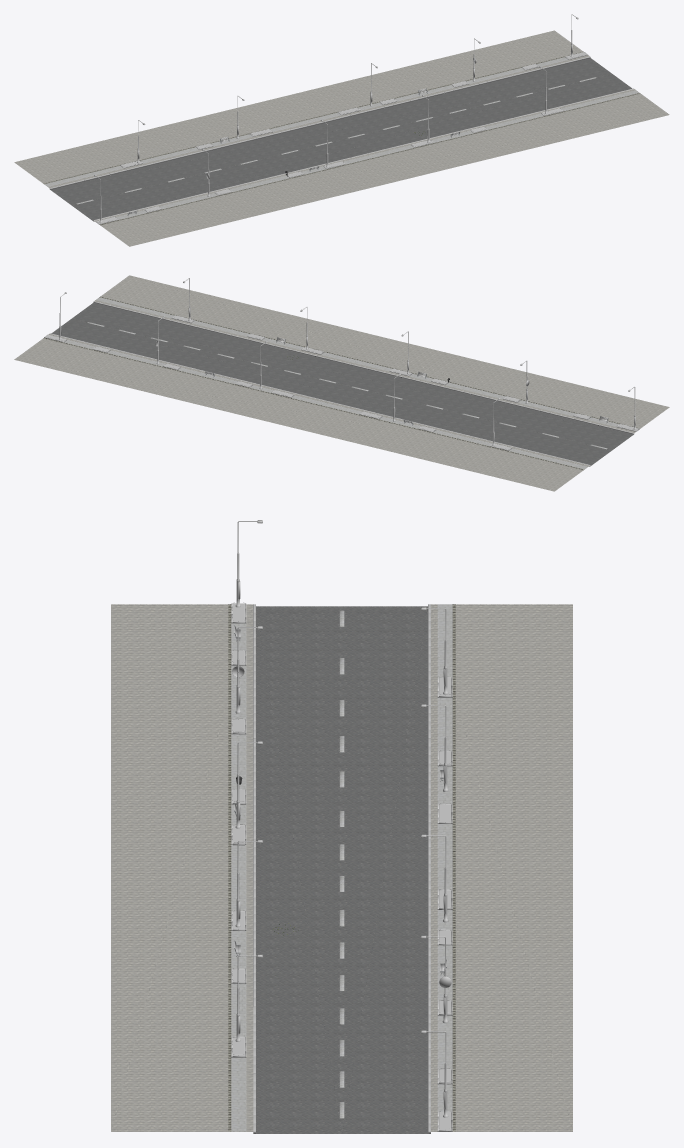
Rendered from Road.fbx.
3 views of the same model, one above another, from view 1: azimuth 30°, elevation 25°; view 2: azimuth 150°, elevation 25°; view 3: azimuth 270°, elevation 25° (orthographic). The views are drawn at different scales.
Parts seen in each view (by area): view 1: RoadMain, RoadExtras.004, RoadExtras, Cube.009, Cube.007, RoadMain.016; view 2: RoadMain, RoadExtras, RoadExtras.004, Cube.007, Cube.009, RoadMain.016; view 3: RoadMain, RoadExtras.004, RoadExtras, Cube.007, Cube.009, RoadMain.016.
Boxes of the visible parts, x1,y1,x2,y2 form: RoadMain: (14, 30, 669, 246); RoadExtras.004: (44, 57, 568, 186); RoadExtras: (116, 90, 639, 219); Cube.009: (99, 93, 640, 225); Cube.007: (43, 51, 583, 184); RoadMain.016: (76, 77, 596, 204); RoadMain: (14, 275, 669, 491); RoadExtras: (96, 297, 619, 426); RoadExtras.004: (64, 340, 587, 469); Cube.007: (43, 337, 584, 470); Cube.009: (99, 296, 640, 428); RoadMain.016: (87, 322, 607, 449); RoadMain: (111, 604, 572, 1133); RoadExtras.004: (437, 604, 452, 1111); RoadExtras: (231, 623, 246, 1131); Cube.007: (452, 604, 455, 1131); Cube.009: (228, 604, 231, 1131); RoadMain.016: (339, 610, 344, 1118).
Bounding box in the file's own units: 110 × 8.66 × 40.79.
